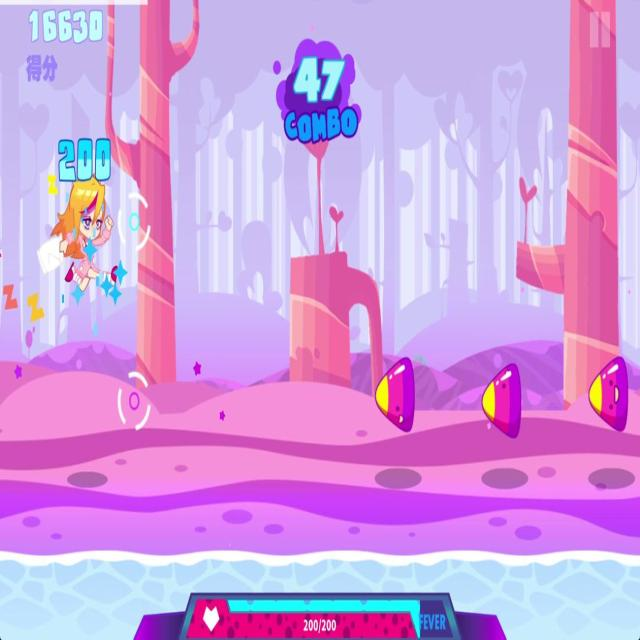jian: (372, 350, 419, 441), (586, 350, 632, 436), (480, 358, 525, 443)
